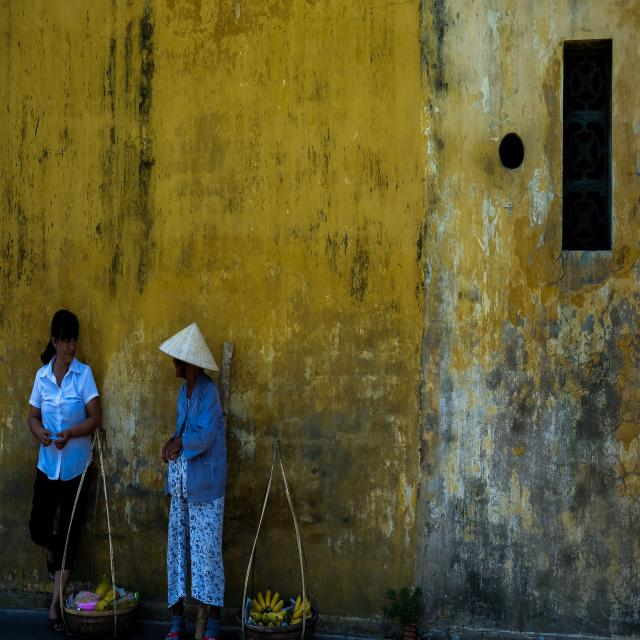adult: (26, 311, 99, 627), (158, 326, 228, 640)
